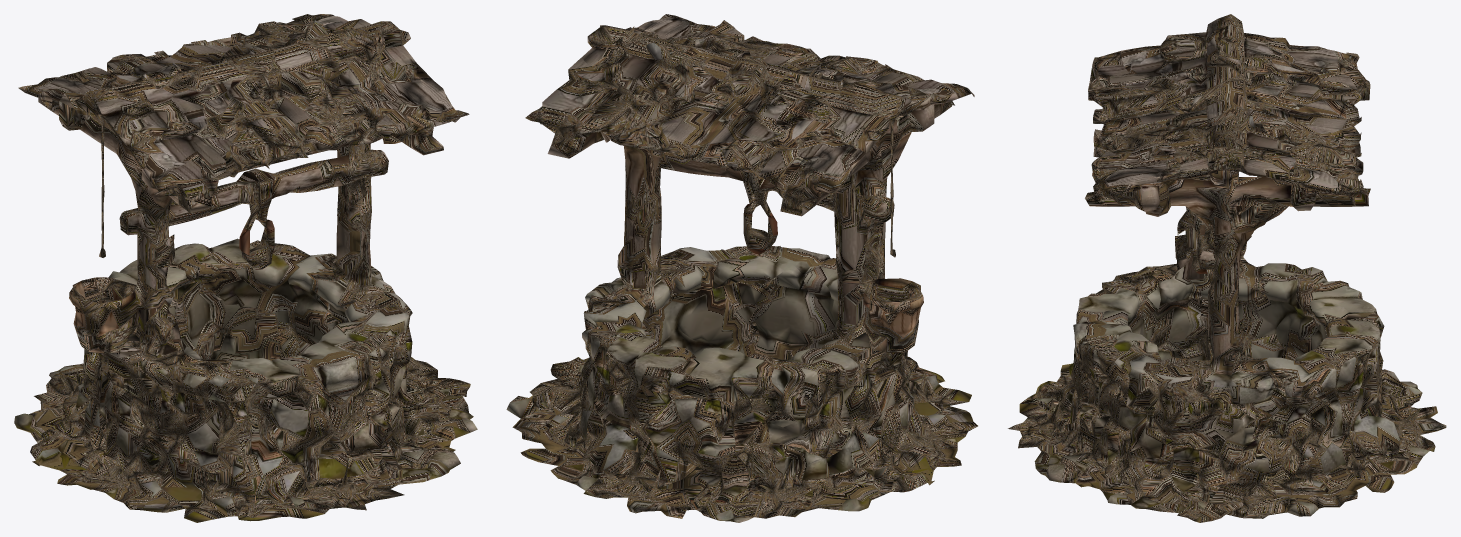
Rendered from well.glb.
The picture shows the model from 3 angles, left to right: view 1: azimuth 30°, elevation 25°; view 2: azimuth 150°, elevation 25°; view 3: azimuth 270°, elevation 25°; orthographic projection. The views are drawn at different scales.
Parts seen in each view (by area): view 1: tripo_node_a450465d_tripo_mat_a450465d_0; view 2: tripo_node_a450465d_tripo_mat_a450465d_0; view 3: tripo_node_a450465d_tripo_mat_a450465d_0.
Boxes of the visible parts, x1,y1,x2,y2 form: tripo_node_a450465d_tripo_mat_a450465d_0: [14, 14, 477, 522]; tripo_node_a450465d_tripo_mat_a450465d_0: [506, 14, 977, 522]; tripo_node_a450465d_tripo_mat_a450465d_0: [1008, 14, 1446, 522].
Bounding box in the file's own units: 0.9768 × 0.8498 × 0.9672.
1 material, 1 textured.
